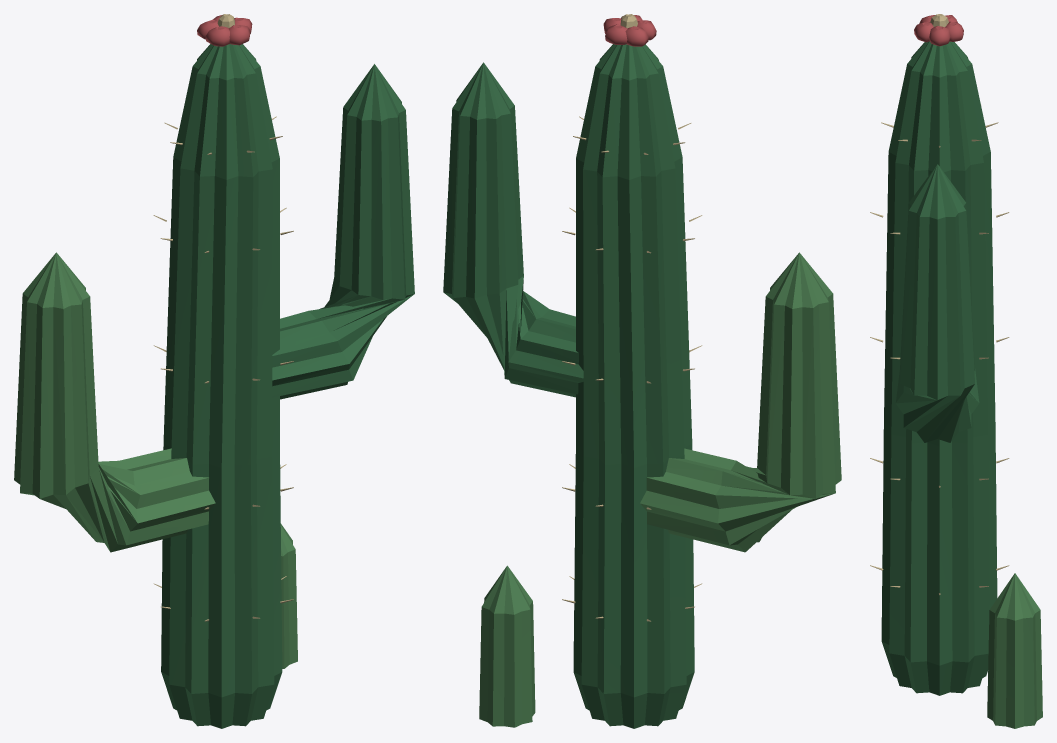
File: Plant_Desert_SaguaroCactus_001.glb
3 renders of one model, left to right at view 1: azimuth 30°, elevation 25°; view 2: azimuth 150°, elevation 25°; view 3: azimuth 270°, elevation 25°, orthographic. The views are drawn at different scales.
Parts seen in each view (by area): view 1: DS_SaguaroCactus_Body; view 2: DS_SaguaroCactus_Body; view 3: DS_SaguaroCactus_Body.
Part boxes in pixels (x1,y1,x2,y2): DS_SaguaroCactus_Body: [14, 14, 414, 728]; DS_SaguaroCactus_Body: [443, 14, 841, 728]; DS_SaguaroCactus_Body: [870, 14, 1042, 728].
Size of the model in its own units: 2 by 3.4 by 0.8032.
